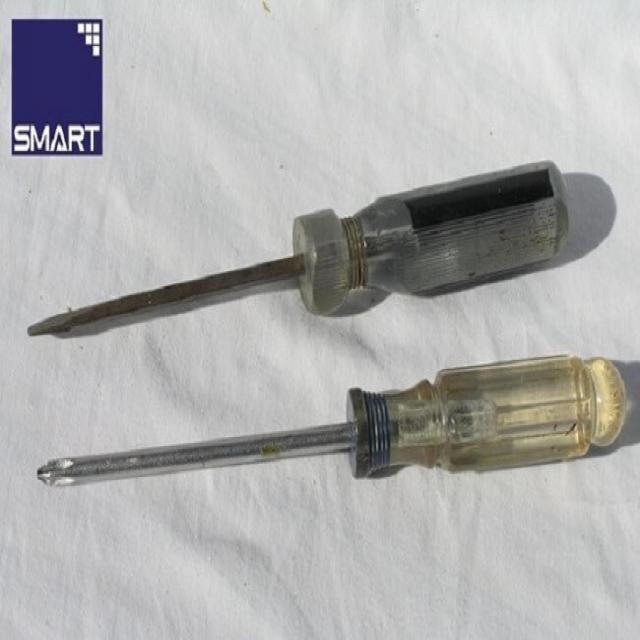screwdriver: (27, 158, 574, 346), (33, 350, 631, 494)
